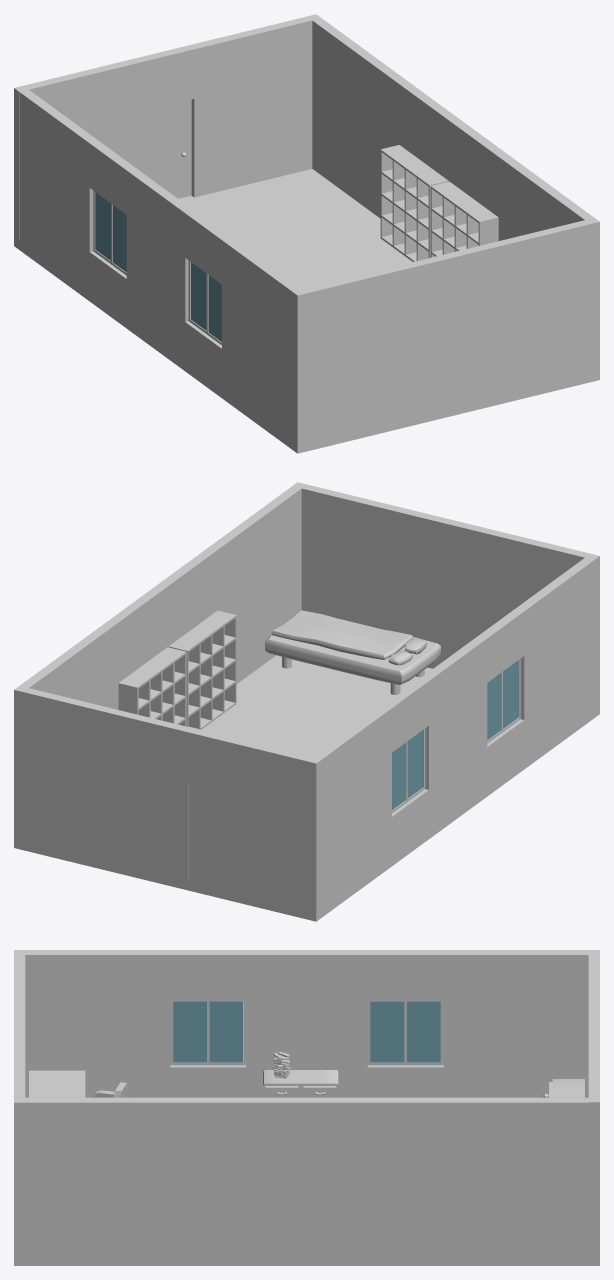
The model's file is Room_001.fbx.
3 views of the same model, one above another, from view 1: azimuth 30°, elevation 25°; view 2: azimuth 150°, elevation 25°; view 3: azimuth 270°, elevation 25° (orthographic). The views are drawn at different scales.
Parts seen in each view (by area): view 1: qe001, glass, Box004, Box084, floor001, Box089, Box093, Box083, Box090, Box085, Box087, Box086 (+1 smaller); view 2: Box004, glass, qe001, Box084, floor001, Box089, Box090, Box083, Box093, Box092, Box099, Box086 (+3 smaller); view 3: Box084, glass, floor001, Box004, qe001, Box086, Box087, Box085, Box088, Box095, Cylinder011, frame002 (+2 smaller).
Boxes of the visible parts, left/top/right/bottom form: qe001: left=292, top=218, right=599, bottom=443; glass: left=19, top=89, right=301, bottom=439; Box004: left=14, top=14, right=321, bottom=239; Box084: left=312, top=18, right=594, bottom=240; floor001: left=14, top=169, right=599, bottom=453; Box089: left=229, top=214, right=390, bottom=288; Box093: left=380, top=145, right=448, bottom=261; Box083: left=147, top=99, right=191, bottom=198; Box090: left=430, top=181, right=498, bottom=257; Box085: left=95, top=192, right=110, bottom=260; Box087: left=191, top=262, right=206, bottom=330; Box086: left=113, top=205, right=126, bottom=272; Box004: left=14, top=686, right=321, bottom=911; glass: left=313, top=557, right=594, bottom=907; qe001: left=292, top=482, right=599, bottom=707; Box084: left=19, top=486, right=301, bottom=709; floor001: left=14, top=655, right=599, bottom=921; Box089: left=223, top=690, right=373, bottom=757; Box090: left=168, top=610, right=236, bottom=729; Box083: left=141, top=770, right=188, bottom=880; Box093: left=118, top=647, right=186, bottom=726; Box092: left=265, top=619, right=440, bottom=694; Box099: left=271, top=610, right=413, bottom=659; Box086: left=407, top=730, right=423, bottom=798; Box084: left=25, top=1097, right=588, bottom=1255; glass: left=25, top=950, right=588, bottom=1097; floor001: left=14, top=1255, right=599, bottom=1265; Box004: left=588, top=950, right=599, bottom=1255; qe001: left=14, top=950, right=25, bottom=1255; Box086: left=370, top=1001, right=404, bottom=1062; Box087: left=209, top=1001, right=243, bottom=1062; Box085: left=407, top=1001, right=440, bottom=1062; Box088: left=173, top=1001, right=206, bottom=1062; Box095: left=263, top=1070, right=338, bottom=1097; Cylinder011: left=29, top=1070, right=85, bottom=1097; frame002: left=367, top=1000, right=443, bottom=1065.
Size of the model in its own units: 6.4 by 3.2 by 10.4.
